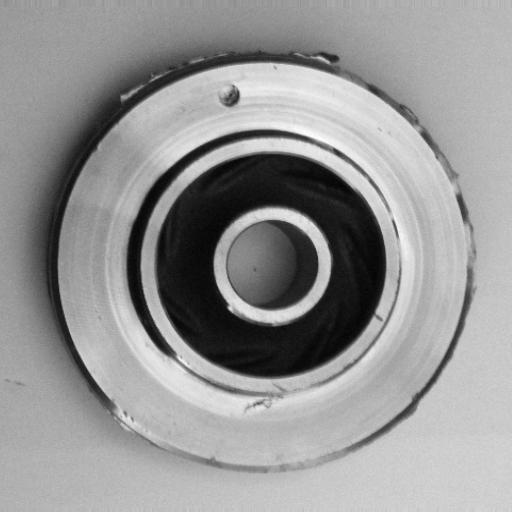casting_with_burr: (49, 45, 479, 477)
crack: (235, 376, 298, 424)
pit: (210, 75, 245, 114)
